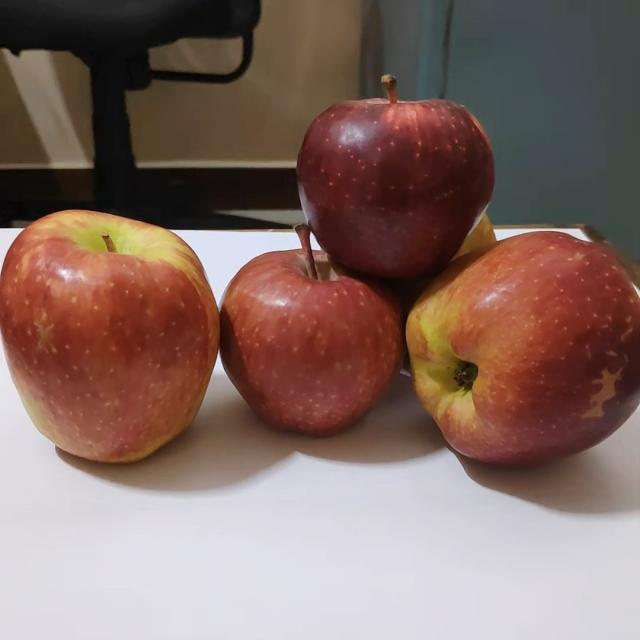apple: (1, 200, 228, 467), (391, 228, 640, 470), (210, 216, 411, 439), (293, 62, 499, 278), (435, 203, 502, 274)
